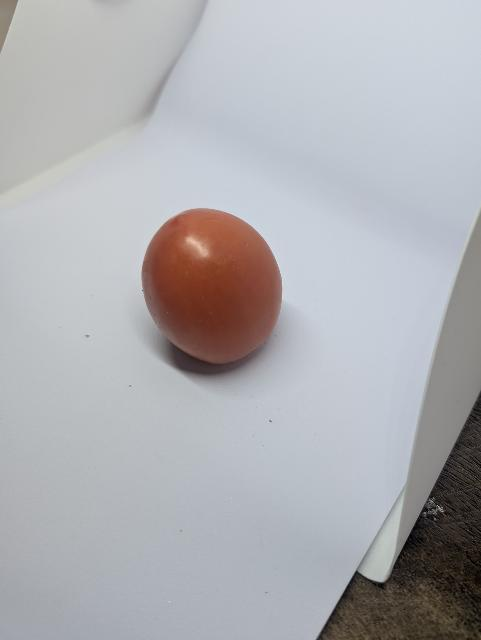red: (135, 202, 291, 385)
